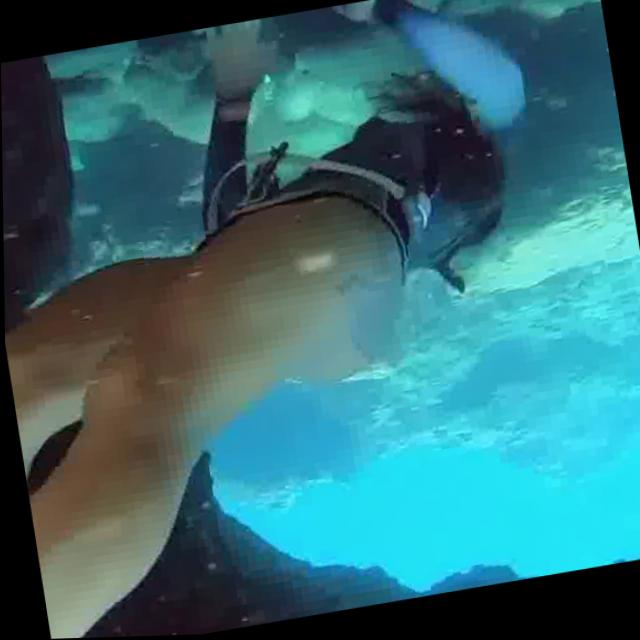human: (0, 0, 597, 640)
